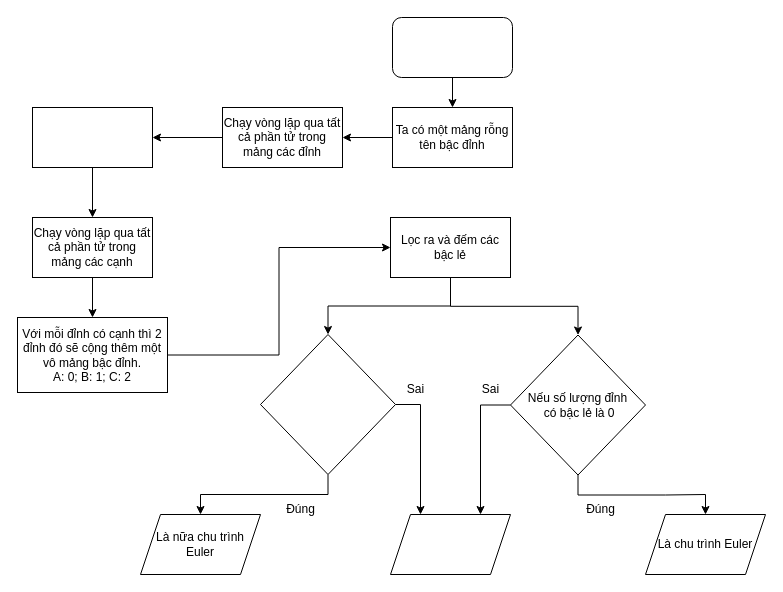
This 783x592 diagram has some shape labels left out. Each missing label, with the centre of its shape:
"Bắt đầu kiểm tra" belongs at [452,47].
"Gắn cho mỗi đỉnh đều bậc 0" belongs at [92,137].
"Không là Euler" belongs at [450,544].
"Nếu số lượng đỉnh có bậc lẻ là 2" belongs at [328,404].
